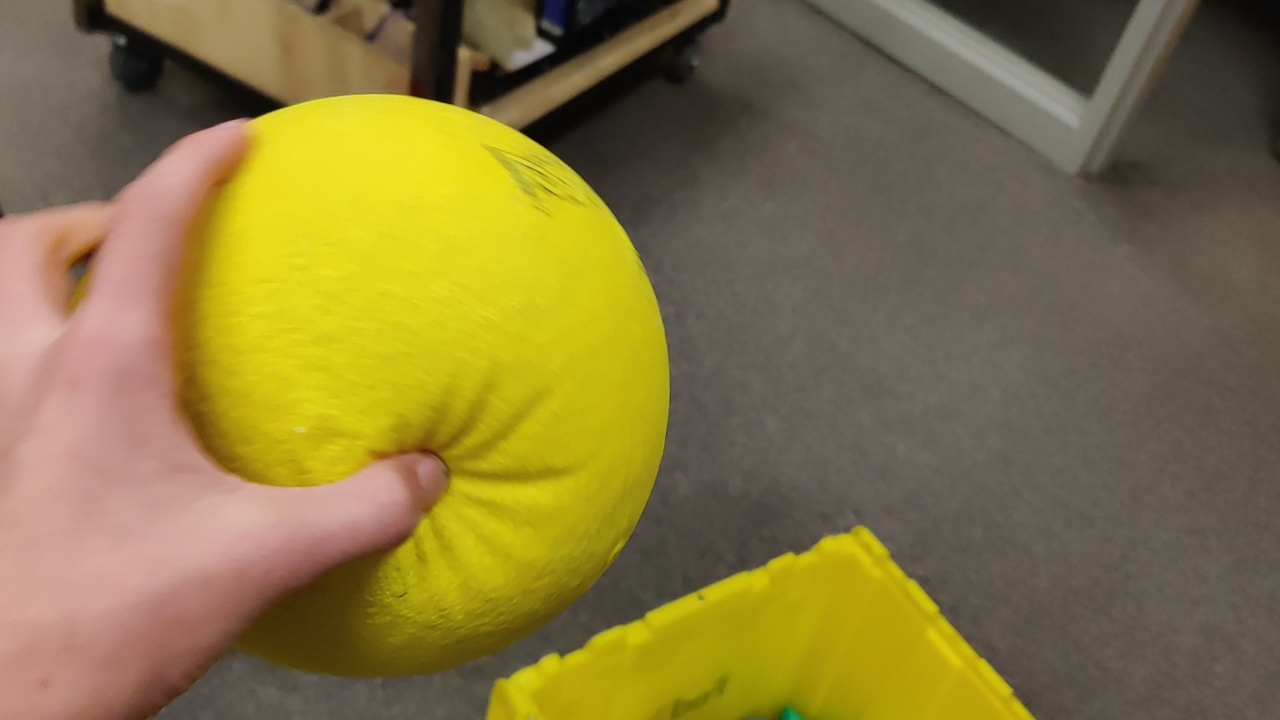Ball: (274, 94, 663, 653)
